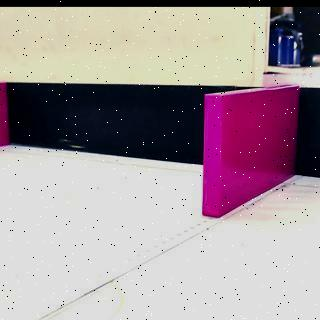xparking: (205, 92, 299, 214)
